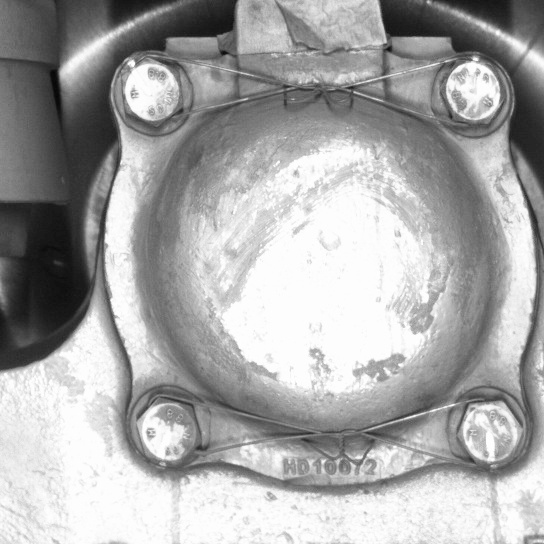IronWire: (110, 50, 522, 145), (129, 383, 532, 474)
Screw: (430, 49, 521, 144), (128, 382, 216, 477), (442, 383, 532, 474), (111, 50, 198, 135)
